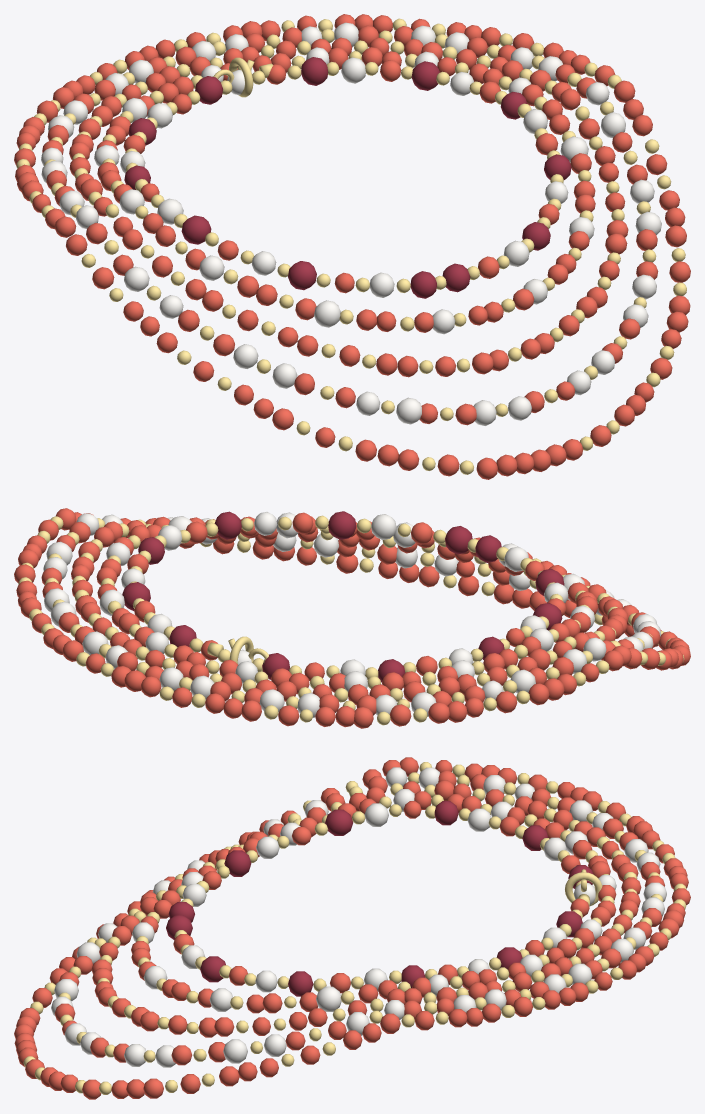
The model's file is art-301.glb.
3 renders of one model, top to bottom at view 1: azimuth 30°, elevation 25°; view 2: azimuth 150°, elevation 25°; view 3: azimuth 270°, elevation 25°, orthographic. The views are drawn at different scales.
Visible parts, largest first — view 1: Collier_Perles_Coral, Collier_Perles_Pearl, Collier_Perles_Gold, Collier_Perles_Burgundy, Fermoir_Joaillerie_Or18K; view 2: Collier_Perles_Coral, Collier_Perles_Pearl, Collier_Perles_Gold, Collier_Perles_Burgundy, Fermoir_Joaillerie_Or18K; view 3: Collier_Perles_Coral, Collier_Perles_Pearl, Collier_Perles_Gold, Collier_Perles_Burgundy, Fermoir_Joaillerie_Or18K.
Boxes of the visible parts, left/top/right/bottom form: Collier_Perles_Coral: left=14, top=14, right=690, bottom=479; Collier_Perles_Pearl: left=41, top=22, right=661, bottom=425; Collier_Perles_Gold: left=16, top=18, right=686, bottom=474; Collier_Perles_Burgundy: left=124, top=57, right=571, bottom=298; Fermoir_Joaillerie_Or18K: left=213, top=57, right=273, bottom=97; Collier_Perles_Coral: left=14, top=508, right=690, bottom=728; Collier_Perles_Pearl: left=43, top=512, right=661, bottom=717; Collier_Perles_Gold: left=18, top=515, right=684, bottom=725; Collier_Perles_Burgundy: left=122, top=511, right=564, bottom=682; Fermoir_Joaillerie_Or18K: left=207, top=636, right=268, bottom=671; Collier_Perles_Coral: left=14, top=757, right=690, bottom=1099; Collier_Perles_Pearl: left=51, top=767, right=666, bottom=1067; Collier_Perles_Gold: left=23, top=762, right=686, bottom=1094; Collier_Perles_Burgundy: left=166, top=801, right=593, bottom=996; Fermoir_Joaillerie_Or18K: left=565, top=869, right=602, bottom=906.
Bounding box in the file's own units: 0.2583 × 0.0827 × 0.2809.
